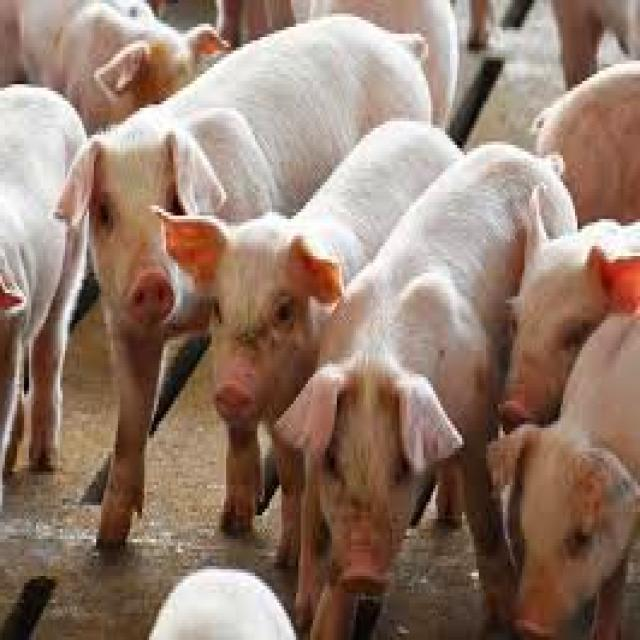pig: (63, 13, 433, 539), (279, 145, 575, 637), (161, 121, 443, 525), (491, 313, 640, 637), (2, 84, 87, 502), (503, 219, 640, 421), (58, 3, 229, 128)
